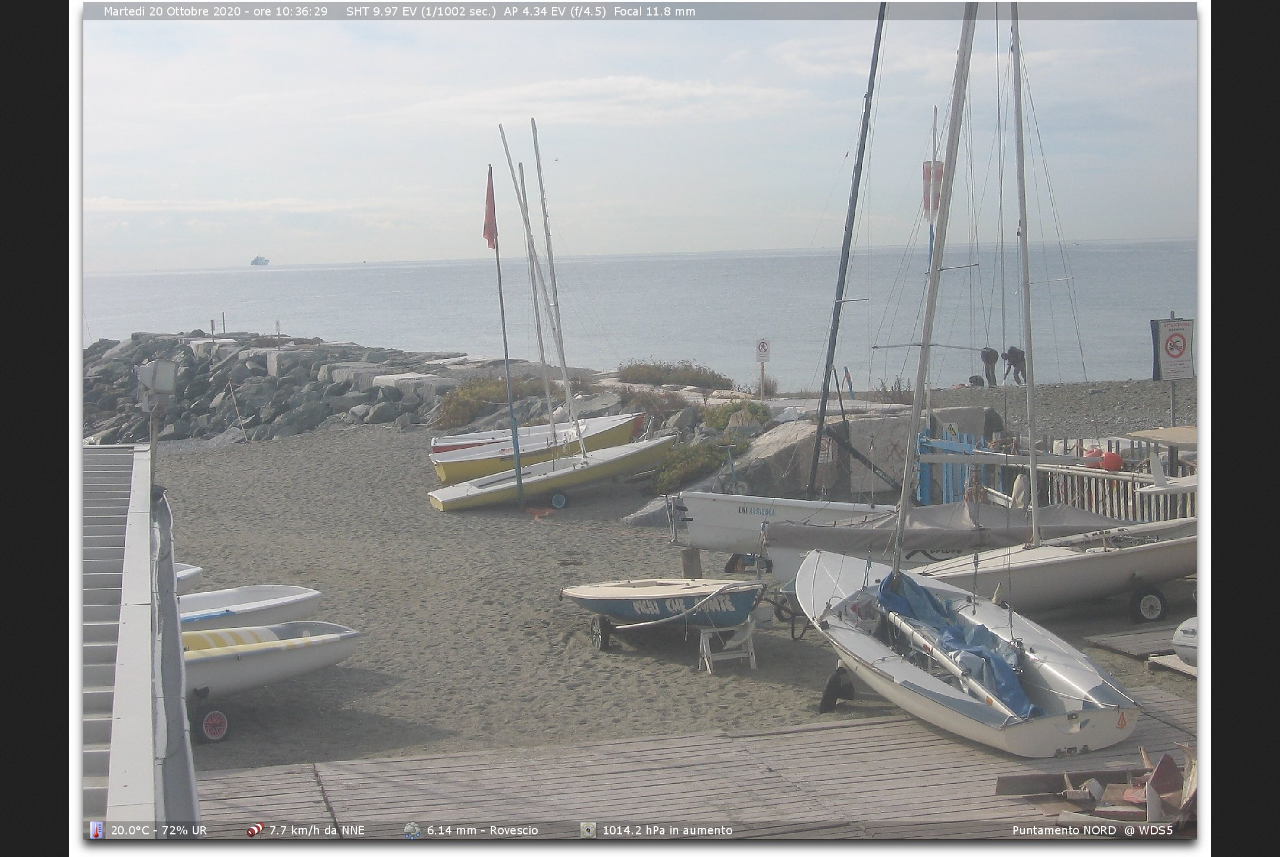no: (477, 155, 505, 255)
